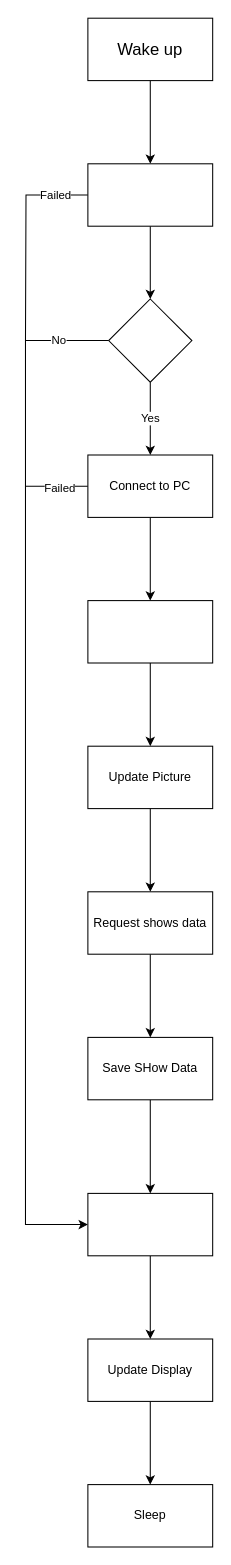
The diagram is 231 pixels wide and 1565 high, and some of its shapes have lost their labels. Here are the shapes that lost their labels. From the top down, the centre of each, then its label:
At [150,194]: "Connect to wifi".
At [150,340]: "24 Passed".
At [150,631]: "Request New Picture".
At [150,1224]: "Check For Shows".
